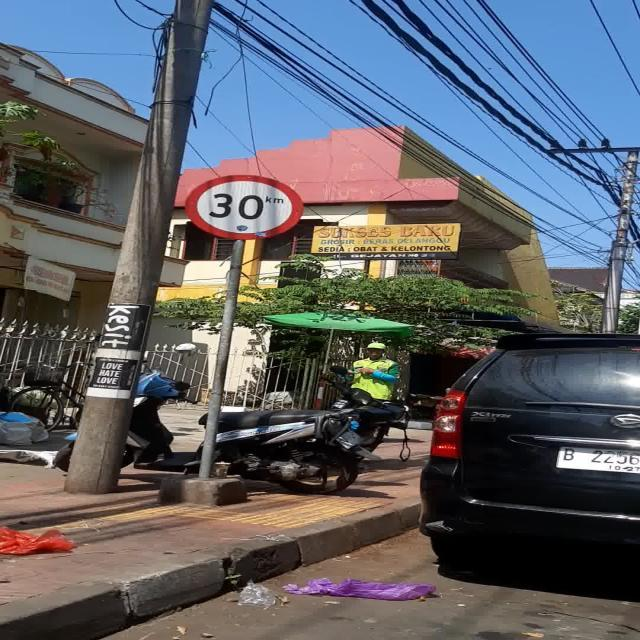Kecepatan Maks. 30 km: (184, 174, 303, 240)
